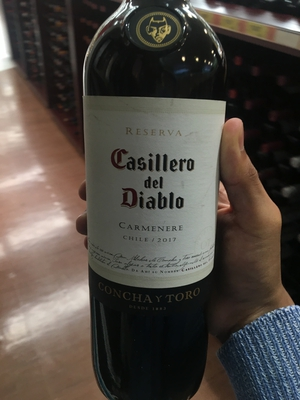casillero del diablo carmenere: (71, 11, 252, 400)
